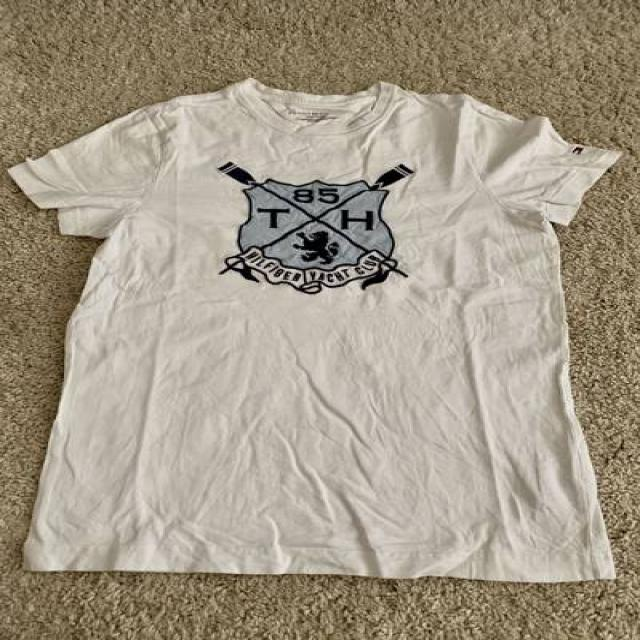shirt: (11, 76, 620, 578)
